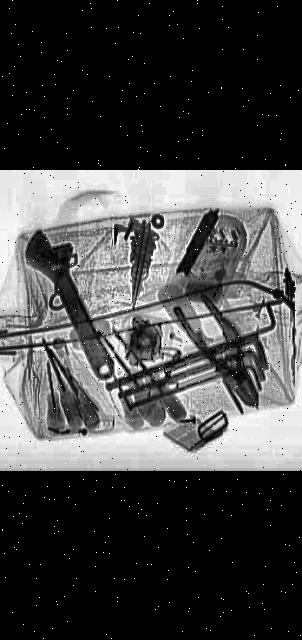Pliers: (162, 296, 278, 409)
Wrench: (10, 228, 136, 382)
